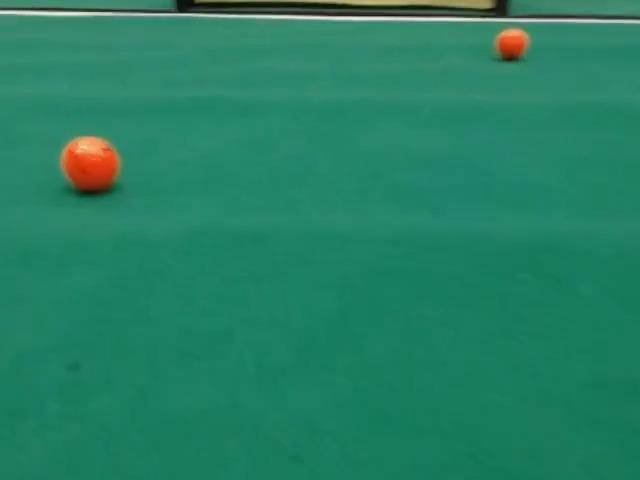Ball: (60, 136, 120, 192), (494, 28, 528, 60)
